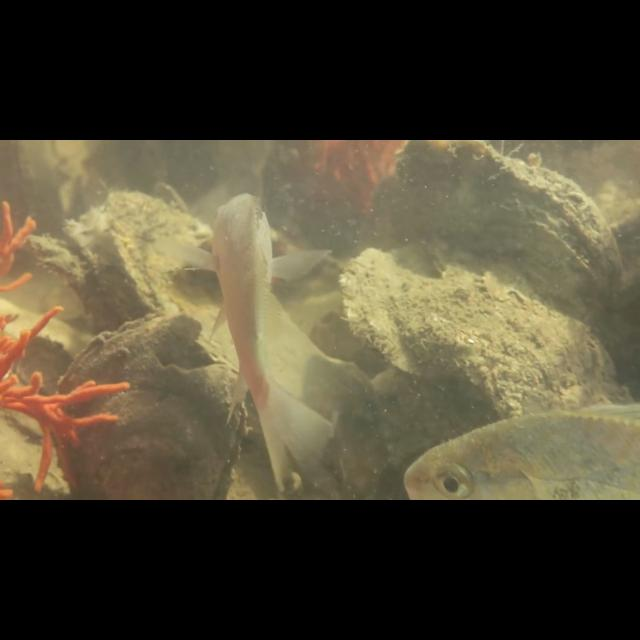Oyster-Closed: (334, 233, 637, 412), (396, 140, 626, 360), (21, 186, 266, 376), (50, 306, 252, 499)
